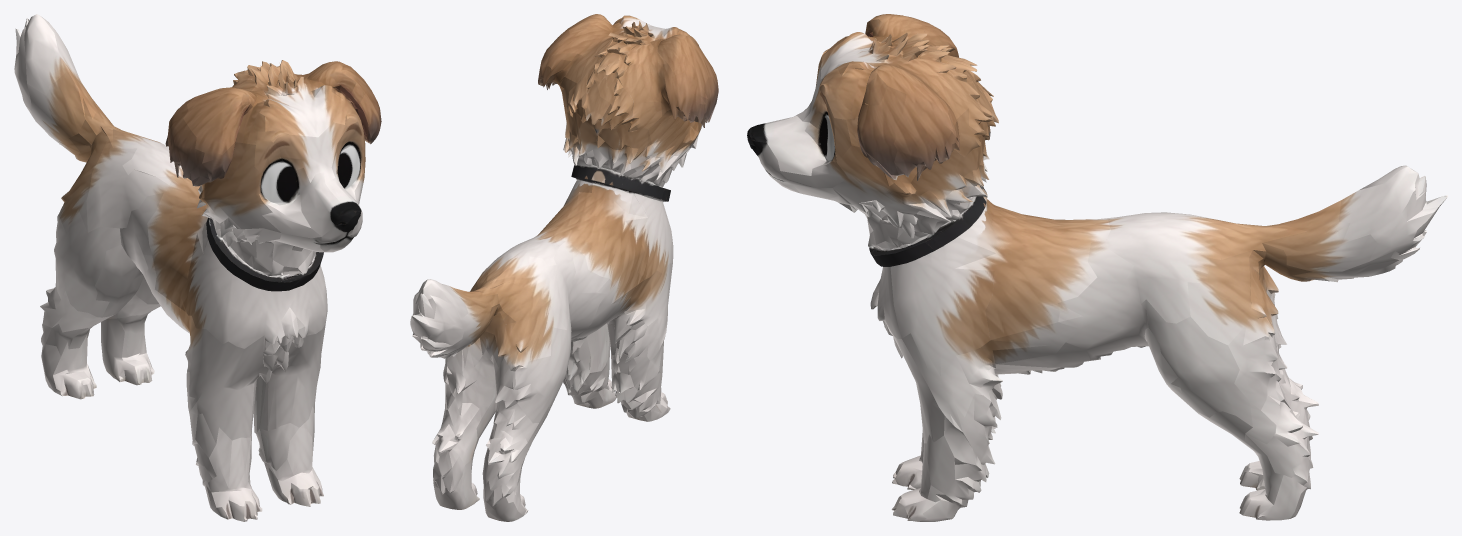
The model's file is Meshy_AI_Sunny_Pup_0919020946_texture.glb.
The picture shows the model from 3 angles, left to right: view 1: azimuth 30°, elevation 25°; view 2: azimuth 150°, elevation 25°; view 3: azimuth 270°, elevation 25°; orthographic projection. The views are drawn at different scales.
Visible parts, largest first — view 1: output_unwrapped; view 2: output_unwrapped; view 3: output_unwrapped.
Part boxes in pixels (<box>): output_unwrapped: <box>14,14,381,521</box>; output_unwrapped: <box>410,14,718,521</box>; output_unwrapped: <box>747,14,1447,521</box>.
Bounding box in the file's own units: 0.6321 × 1.38 × 1.89.
Materials: 1 (1 with a texture image).
